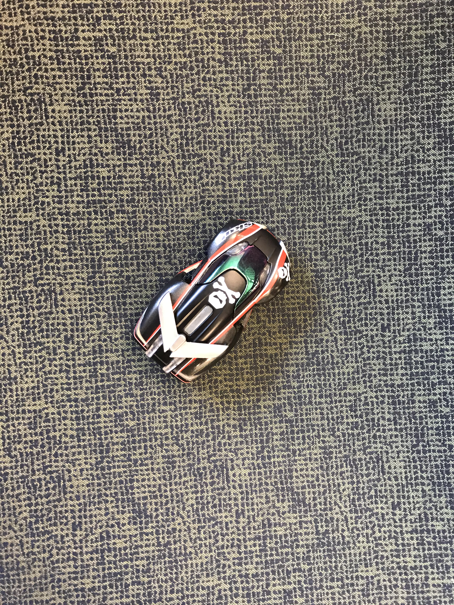Skull: (130, 219, 293, 385)
